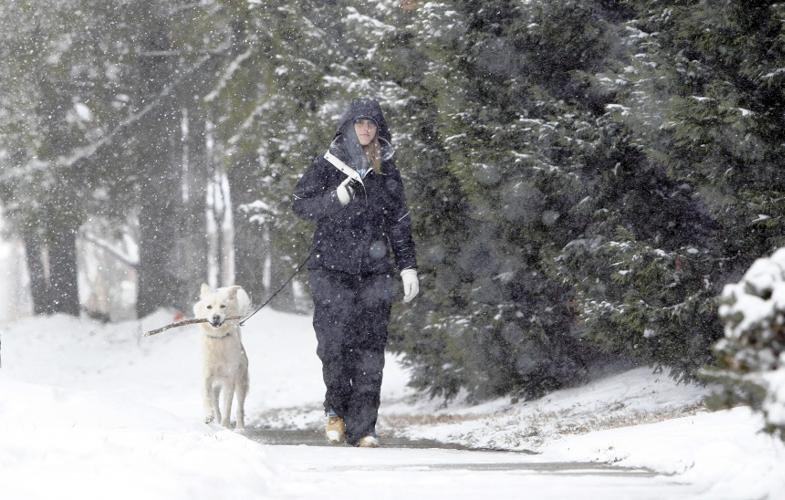person: (293, 95, 419, 444)
